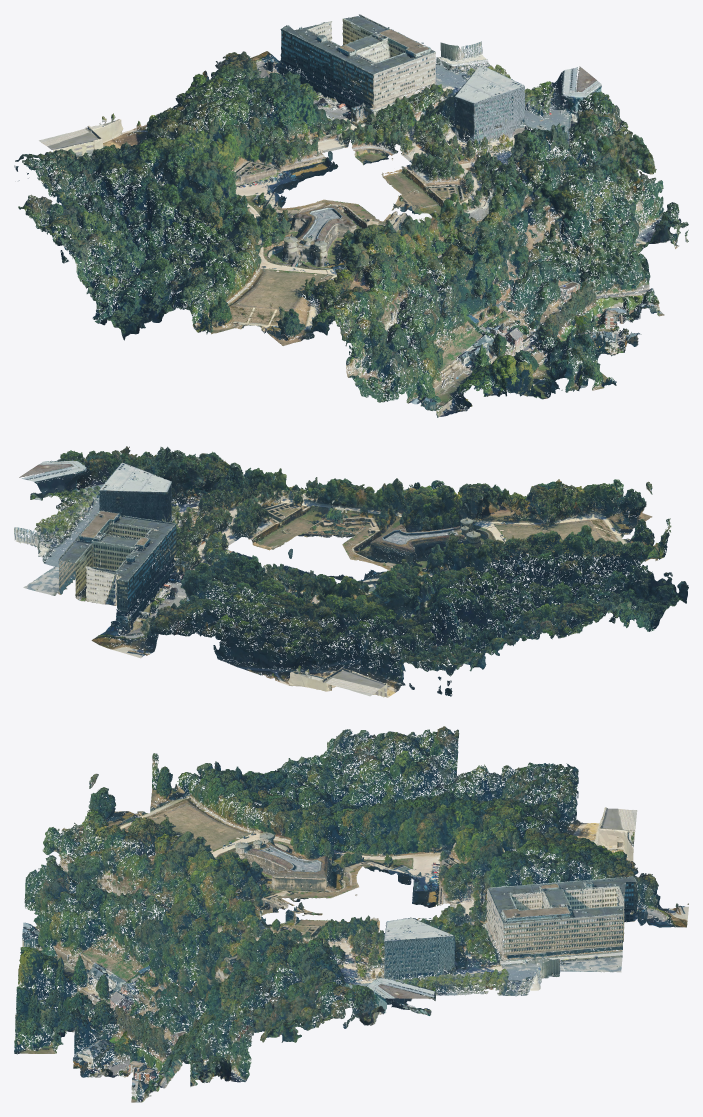
Rendered from near.glb.
3 views of the same model, one above another, from view 1: azimuth 30°, elevation 25°; view 2: azimuth 150°, elevation 25°; view 3: azimuth 270°, elevation 25° (orthographic). The views are drawn at different scales.
Parts seen in each view (by area): view 1: near_context; view 2: near_context; view 3: near_context.
Boxes of the visible parts, box(x1,y1,x2,y2) form: near_context: box(14, 14, 688, 417); near_context: box(14, 446, 688, 697); near_context: box(14, 726, 688, 1102).
Bounding box in the file's own units: 423 × 113 × 423.
Materials: 162 (162 with a texture image).
